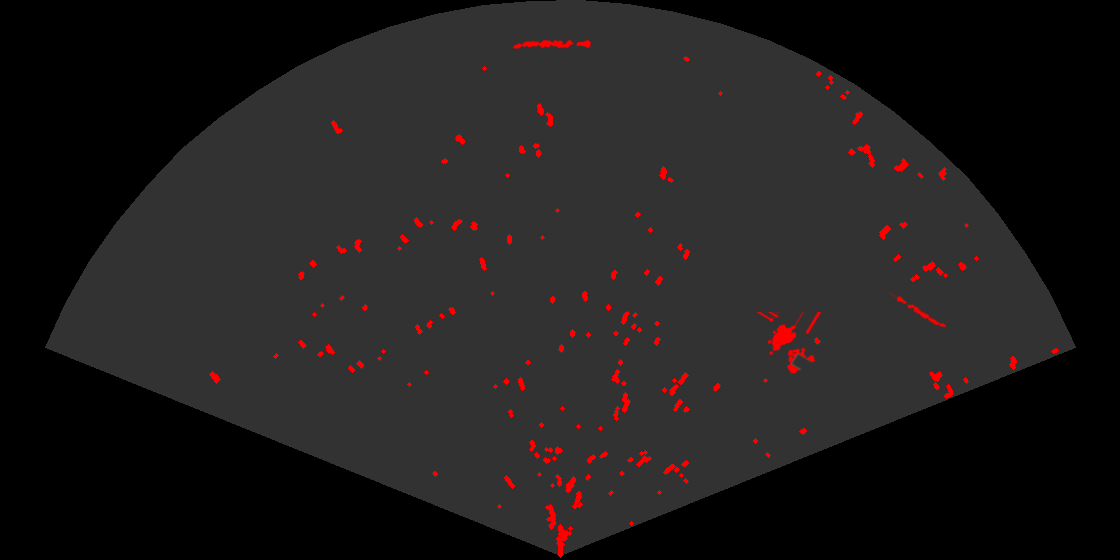cage: (755, 312, 823, 376)
chain: (889, 290, 948, 330), (511, 38, 591, 50)
